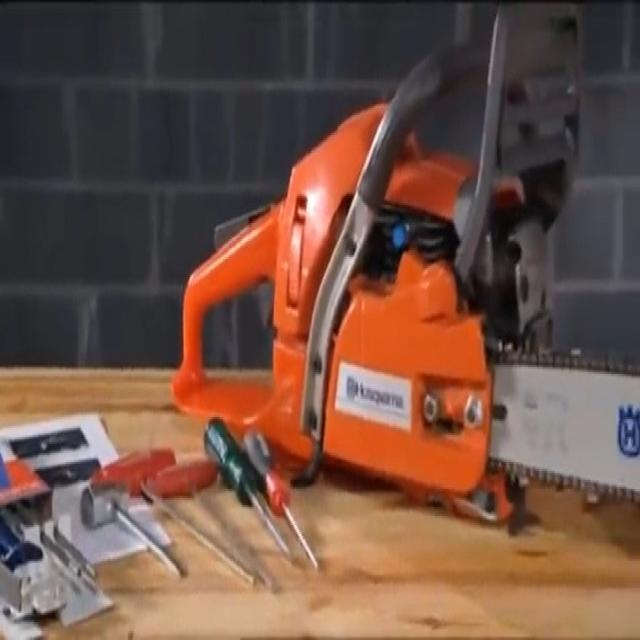Chainsaw: (157, 3, 640, 510)
